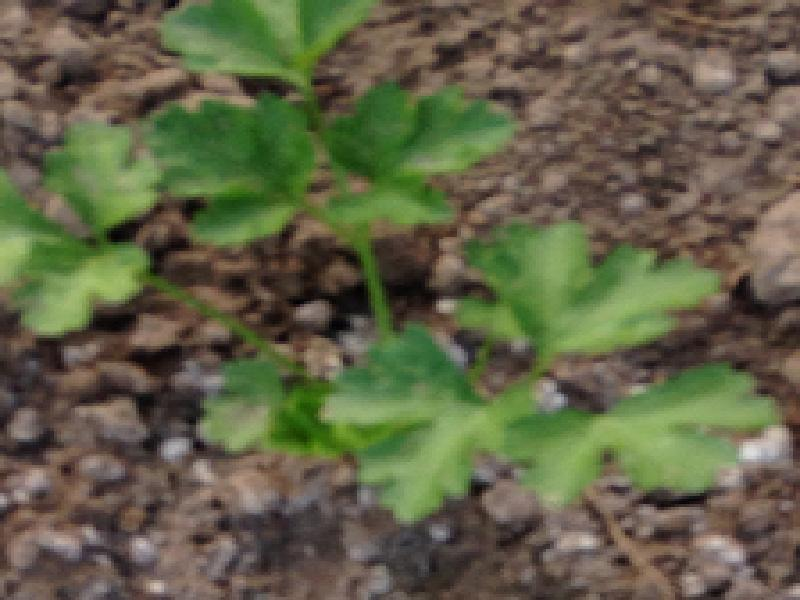radish: (0, 7, 781, 520)
